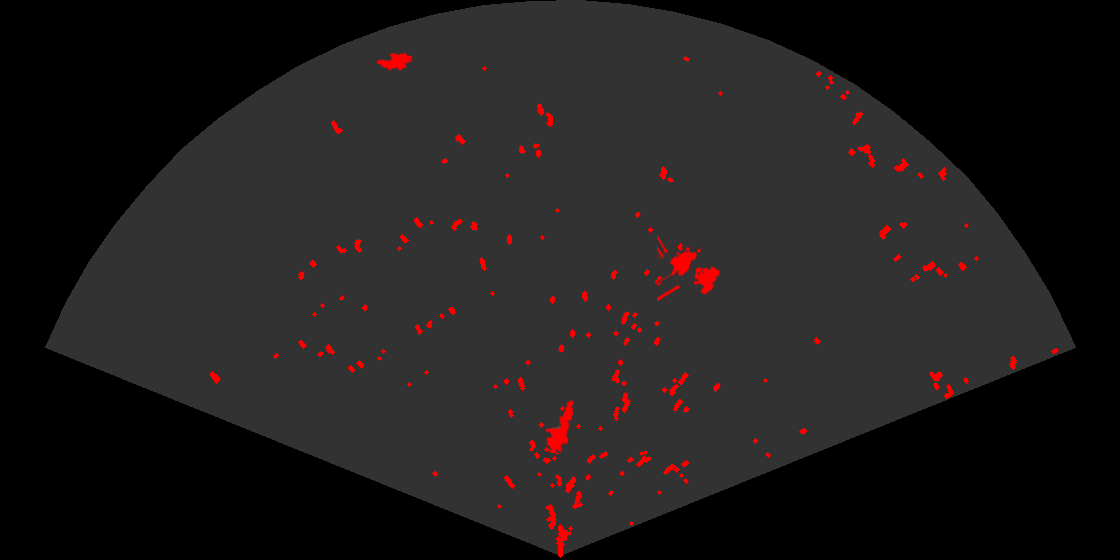AUV: (374, 51, 414, 71)
cage: (657, 233, 721, 303)
frogman: (543, 398, 575, 453)
